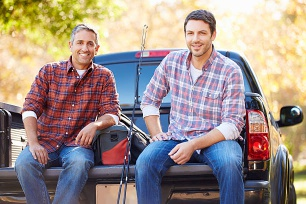male: (181, 10, 218, 55), (67, 23, 102, 68)
